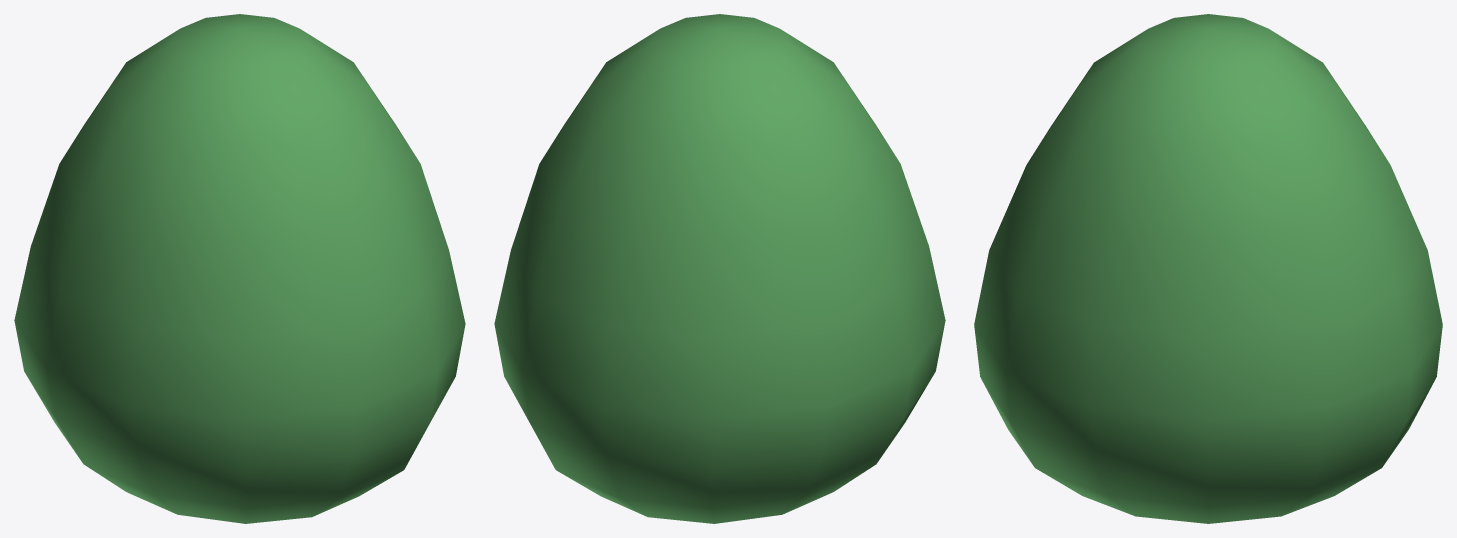
File: egg color.fbx
3 views of the same model, side by side, from view 1: azimuth 30°, elevation 25°; view 2: azimuth 150°, elevation 25°; view 3: azimuth 270°, elevation 25° (orthographic).
Visible parts, largest first — view 1: egg; view 2: egg; view 3: egg.
Part boxes in pixels (x1,y1,x2,y2): egg: [14, 14, 465, 523]; egg: [494, 14, 945, 523]; egg: [974, 14, 1442, 523].
Size of the model in its own units: 54.47 by 62.98 by 56.7.
